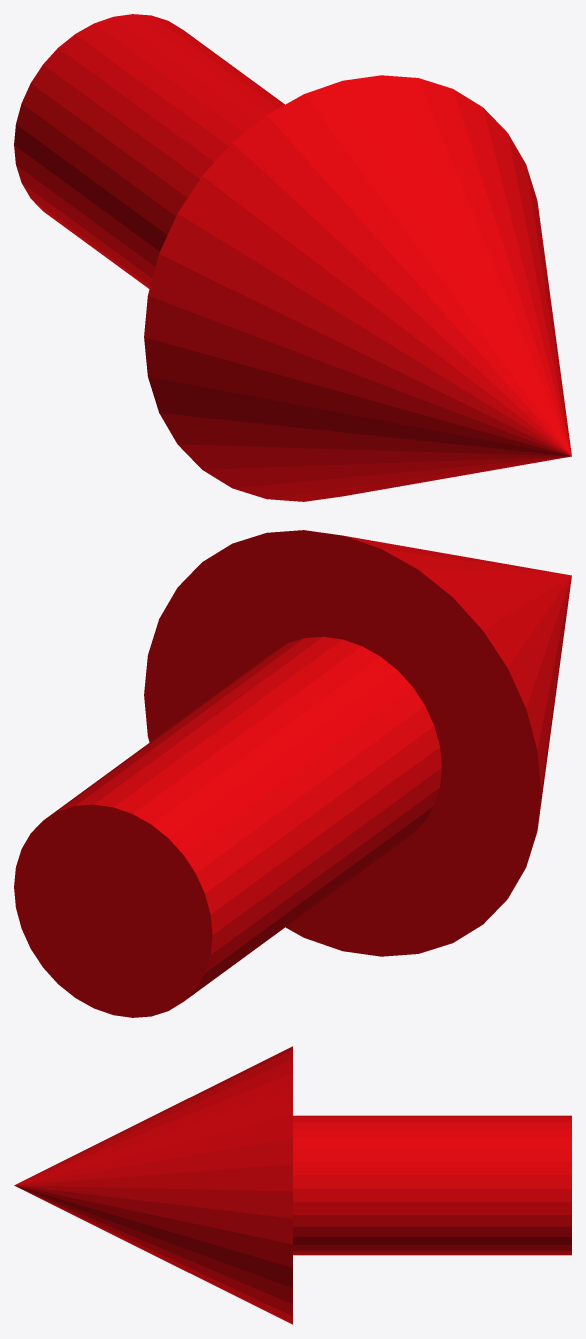
File: Arrow.gltf
3 renders of one model, top to bottom at view 1: azimuth 30°, elevation 25°; view 2: azimuth 150°, elevation 25°; view 3: azimuth 270°, elevation 25°, orthographic. The views are drawn at different scales.
Visible parts, largest first — view 1: 円錐, 円柱; view 2: 円柱, 円錐; view 3: 円柱, 円錐.
Part boxes in pixels (bbox=[...]): 円錐: bbox=[144, 75, 571, 501]; 円柱: bbox=[14, 14, 284, 288]; 円柱: bbox=[14, 636, 441, 1017]; 円錐: bbox=[144, 530, 571, 956]; 円柱: bbox=[293, 1115, 571, 1255]; 円錐: bbox=[14, 1046, 292, 1324].
Size of the model in its own units: 0.8 by 0.8 by 1.6.
